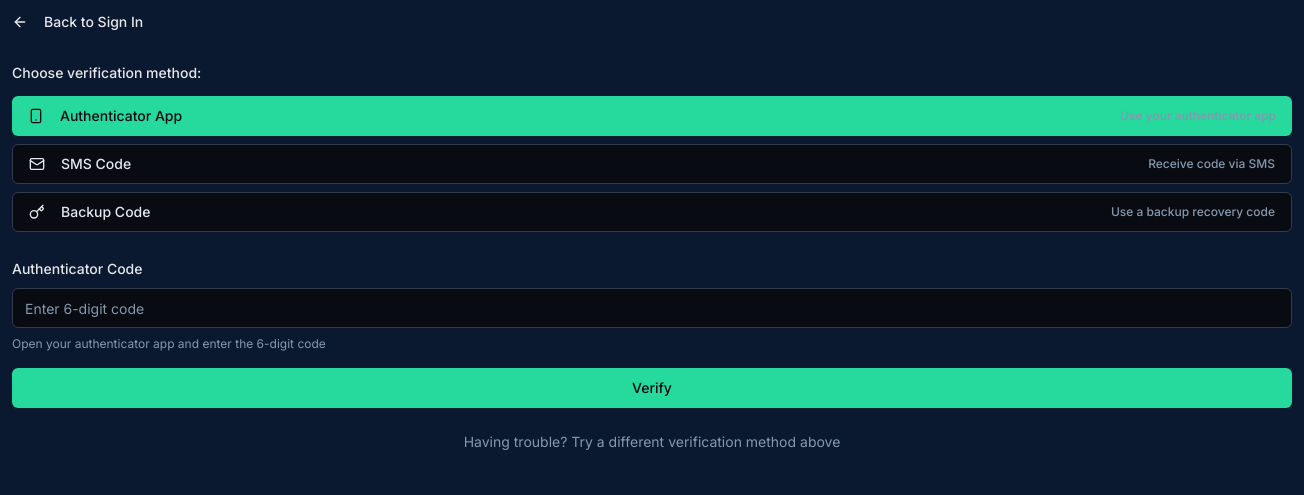
Test case: TwoFactorForm › TOTP Verification › should handle incorrect TOTP code error
Type "000000" into the field labelled "Authenticator Code" at (652, 308), box [12,288,1292,328]
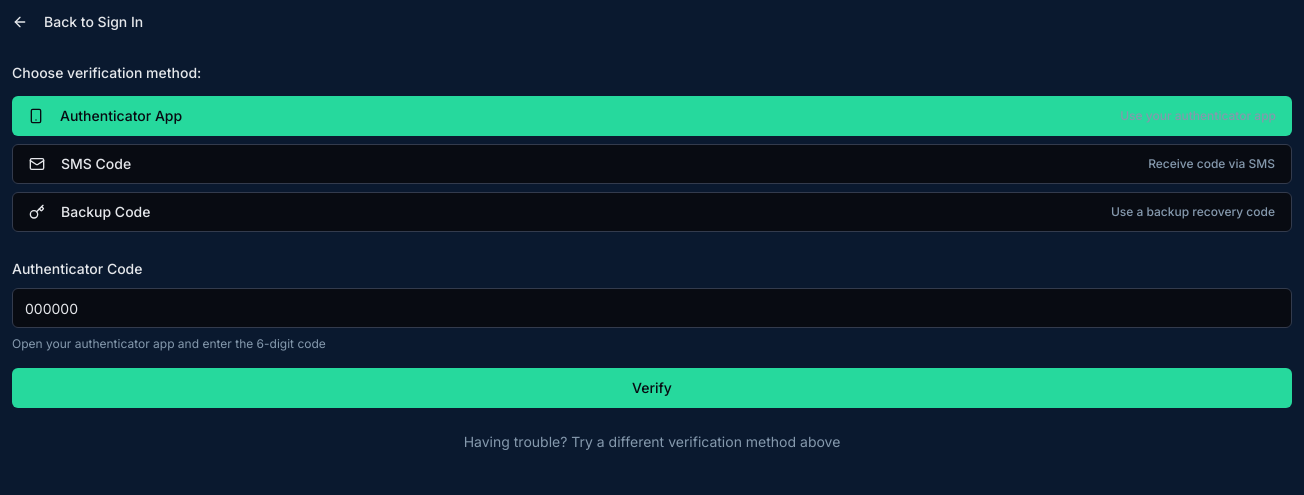
Click the button "Verify" at (652, 388), box [12,368,1292,408]
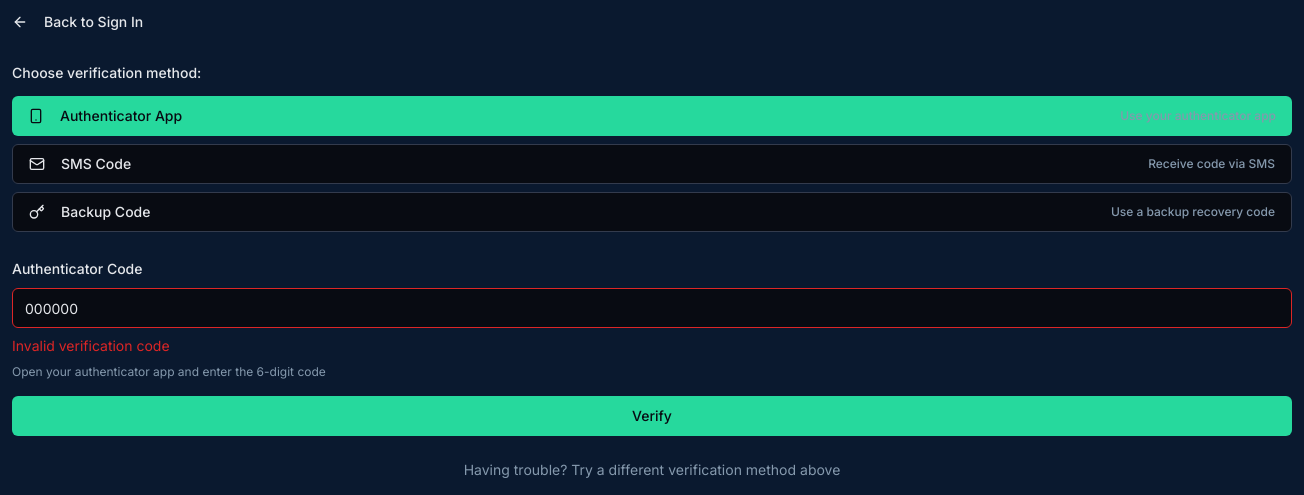
Result: the text "Invalid verification code" is shown at [12,337,170,354]
